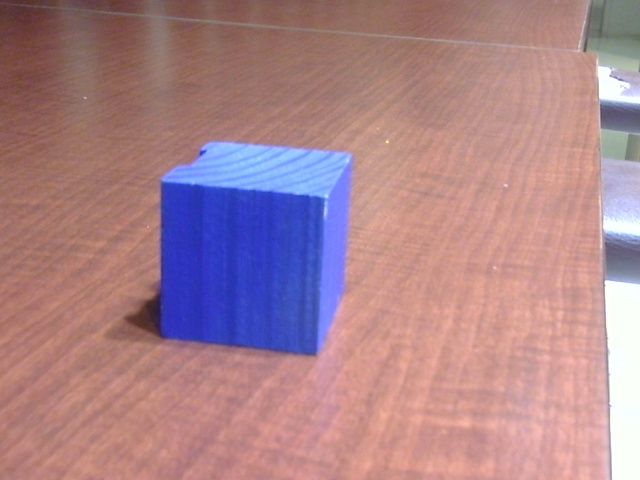BlueBlock: (160, 140, 352, 356)
